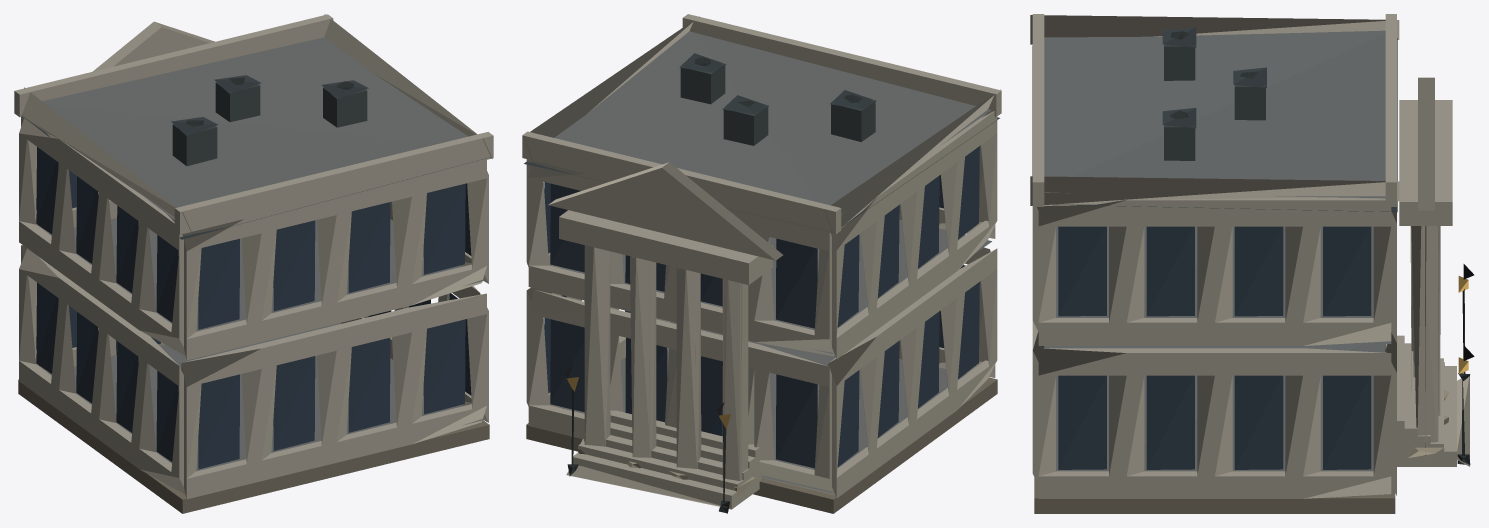
Rendered from bank.glb.
3 renders of one model, left to right at view 1: azimuth 30°, elevation 25°; view 2: azimuth 150°, elevation 25°; view 3: azimuth 270°, elevation 25°, orthographic. The views are drawn at different scales.
Size of the model in its own units: 4.95 by 4.89 by 5.52.
